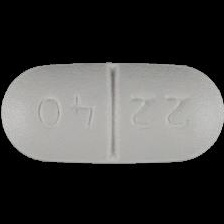0093-2240: (0, 0, 224, 224)
